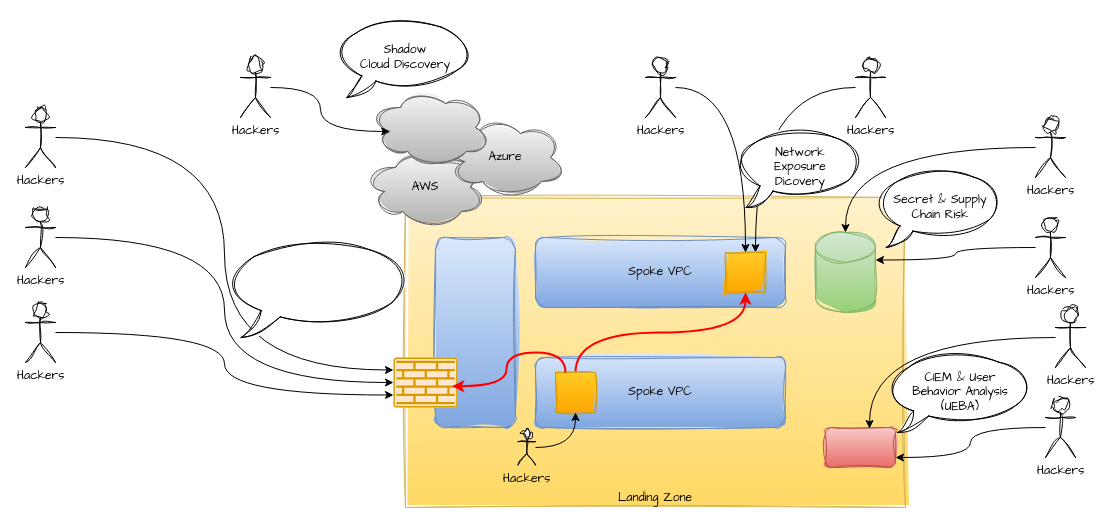
Image size: 1111x525. Some labels were removed from this diagram. Here are the shapes that lost their labels. From the top down, the centre of each, then its label:
pixel 430 127: GCP
pixel 320 287: Network Anomalies & Attack Path Analysis
pixel 745 272: VM
pixel 845 272: Repo
pixel 475 332: Hub VPC
pixel 575 392: K8S
pixel 860 447: IAM
